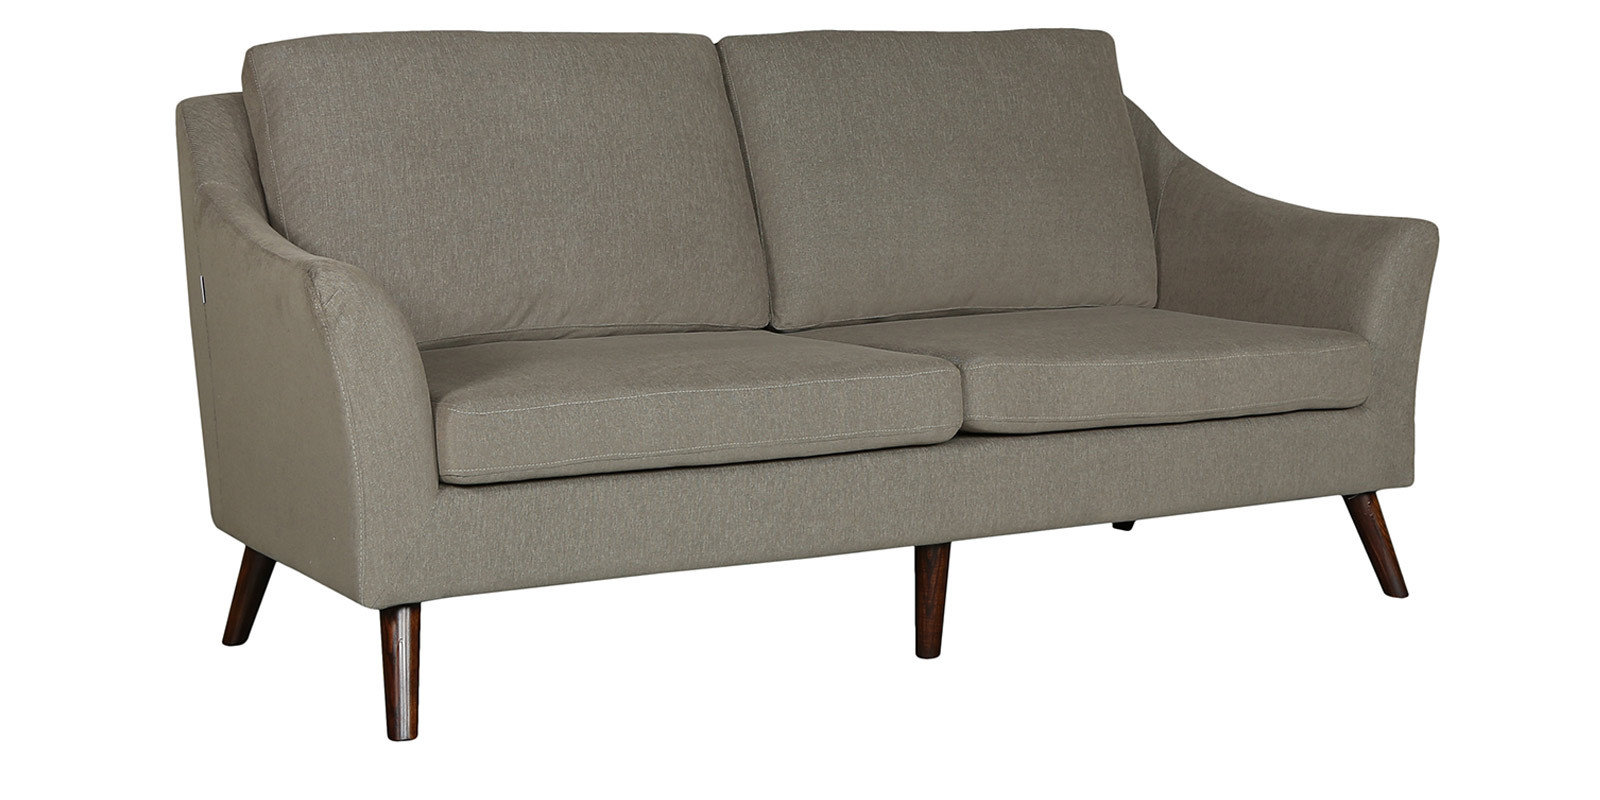Juan Three Seater Sofs in Sandy Brown Colour by CasaCraft: (170, 23, 1441, 744)
